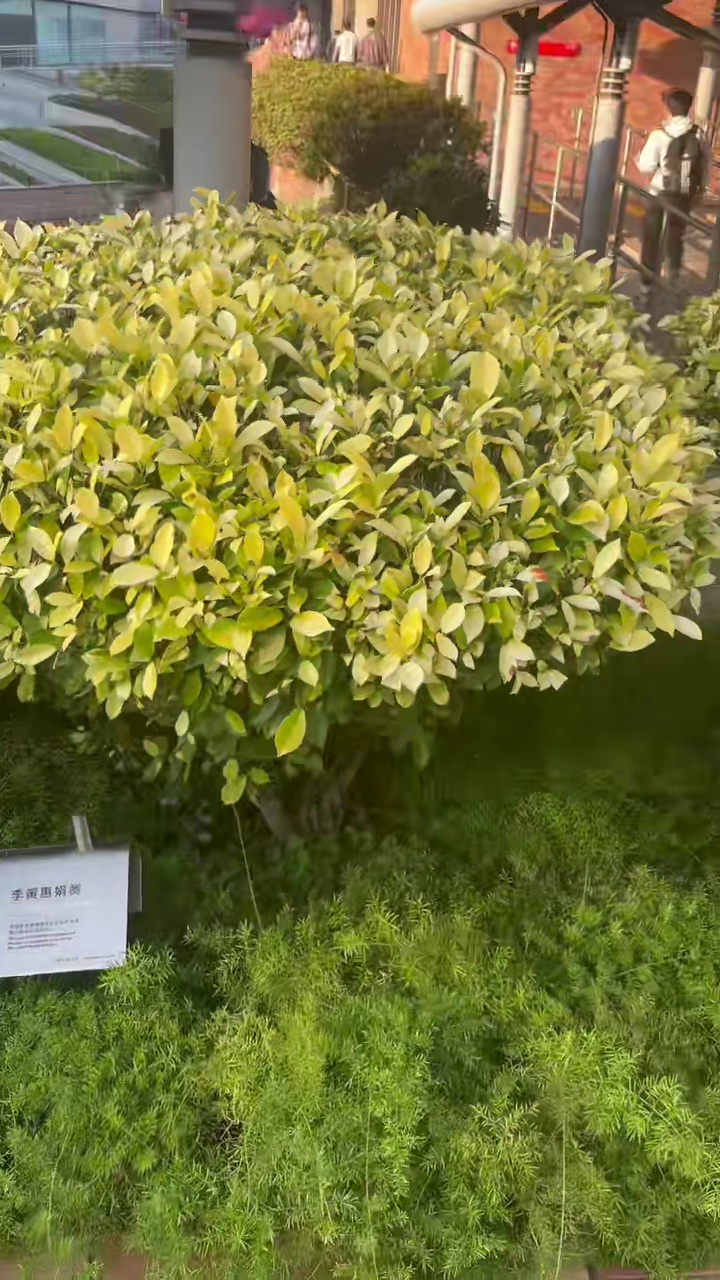Golden-leaves Fig: (0, 193, 719, 804)
